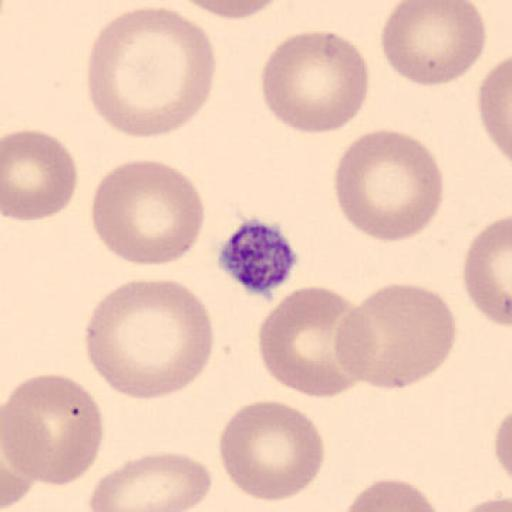Platelet: (215, 215, 301, 297)
RBC: (86, 6, 218, 140), (84, 276, 216, 402), (333, 126, 445, 244), (256, 284, 370, 399), (90, 158, 207, 268), (341, 282, 458, 392), (259, 29, 371, 135), (1, 372, 104, 486), (217, 399, 325, 504), (380, 0, 488, 89), (88, 450, 212, 512), (2, 127, 78, 223), (462, 214, 512, 330), (476, 54, 512, 167), (342, 476, 446, 512), (1, 409, 35, 511), (169, 0, 290, 21), (0, 448, 36, 511), (492, 406, 512, 492), (493, 409, 512, 478), (456, 495, 512, 512)
